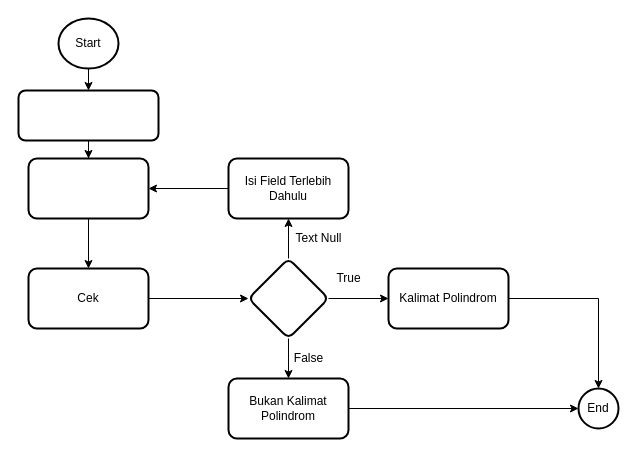
Image size: 636x456. Some labels were removed from this diagram. Here are the shapes that lost their labels. From the top down, the centre of each, then its label:
At pixel 88 115: "Masuk Website".
At pixel 88 188: "Input form cek".
At pixel 288 298: "Fungsi IF".
